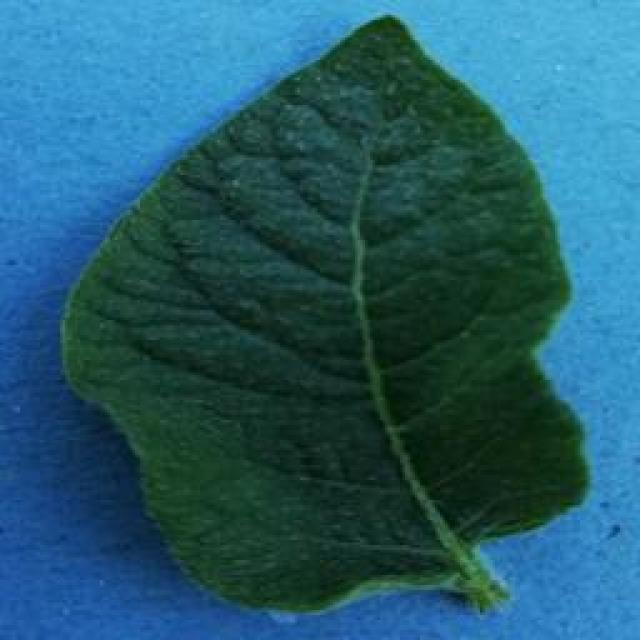Potato_Healthy: (58, 13, 584, 611)
